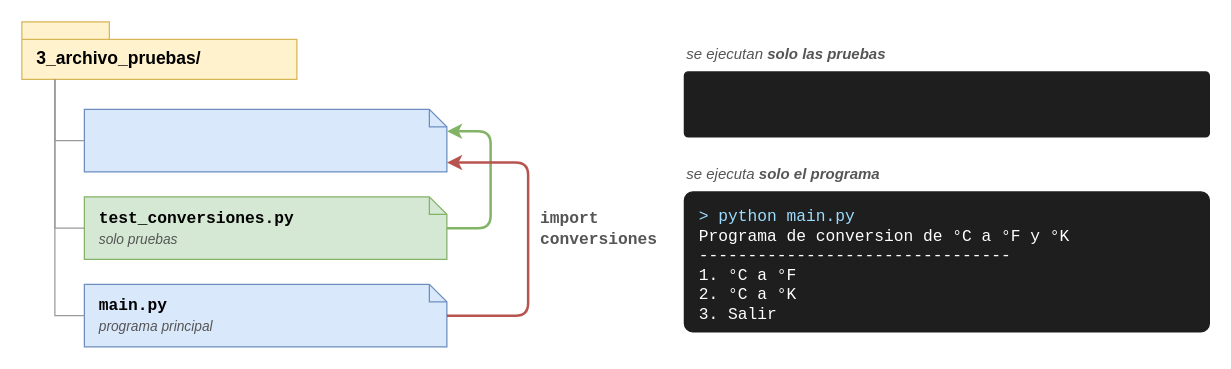
Image size: 1231x369. Some labels were removed from this diagram. Here are the shapes that lost their labels. From the top down, the centre of each, then its label:
the point at 946,104: > python test_conversiones.py Pruebas de conversiones: todas pasaron
the point at 265,140: conversiones.py solo funciones
